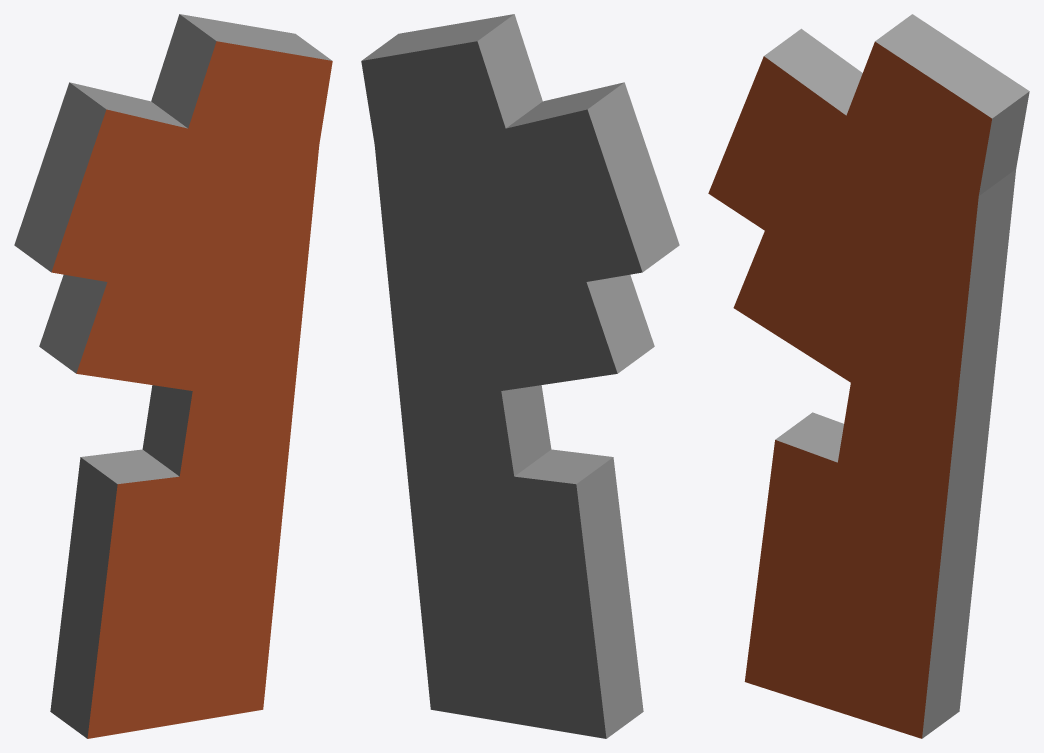
The model's file is construction_4935_assumed_A_Casa_h6m.obj.
The picture shows the model from 3 angles, left to right: view 1: azimuth 30°, elevation 25°; view 2: azimuth 150°, elevation 25°; view 3: azimuth 330°, elevation 25°; orthographic projection.
Parts seen in each view (by area): view 1: construction_4935_assumed_A_Casa; view 2: construction_4935_assumed_A_Casa; view 3: construction_4935_assumed_A_Casa.
Part boxes in pixels (left/top/right/bottom): construction_4935_assumed_A_Casa: left=14, top=14, right=332, bottom=738; construction_4935_assumed_A_Casa: left=361, top=14, right=679, bottom=738; construction_4935_assumed_A_Casa: left=708, top=14, right=1029, bottom=738.
Size of the model in its own units: 26.24 by 60.59 by 6.
